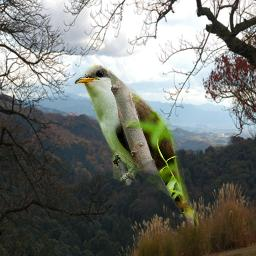Cuckoo: (70, 65, 206, 228)
